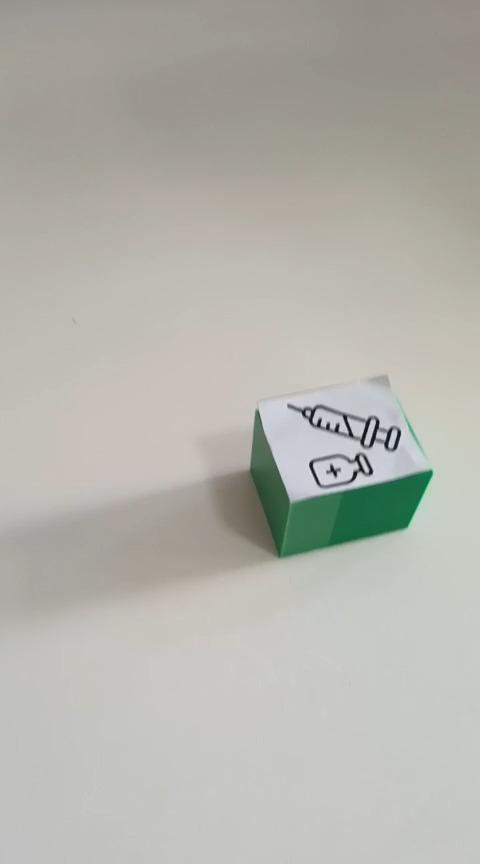antiseptic cream: (248, 372, 433, 558)
